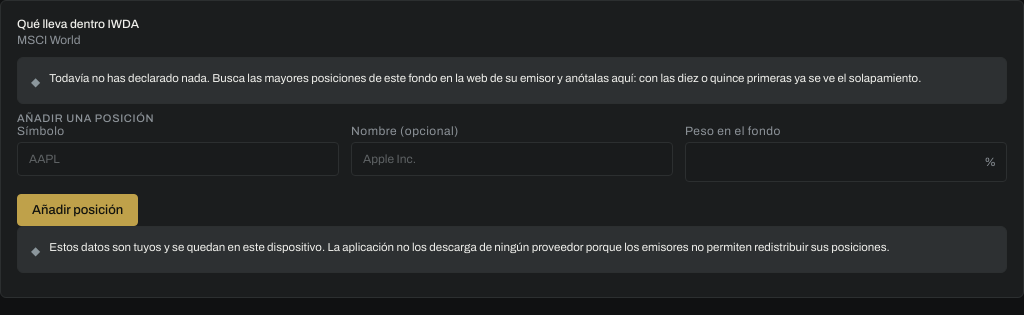
editor de composición (LAB-404b) › sin símbolo o sin peso no guarda nada, y lo dice
The width and height of the screenshot is (1024, 315).
Click the button "Añadir posición" at (78,210), box left=17, top=194, right=138, bottom=226
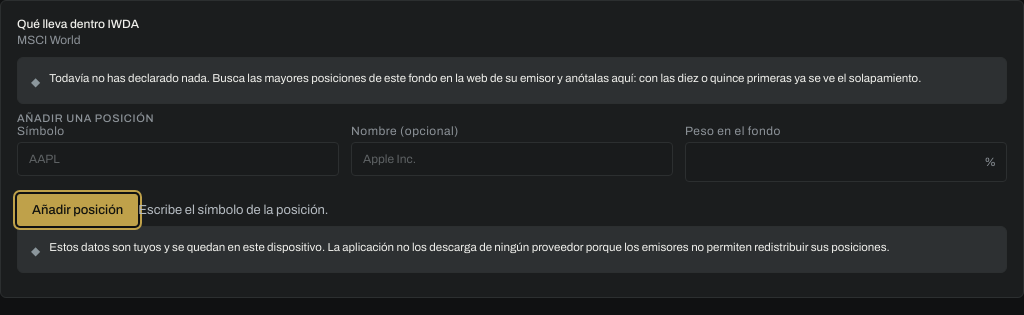
Expected: the message "Escribe el símbolo de la posición." is shown, left=138, top=203, right=328, bottom=217
